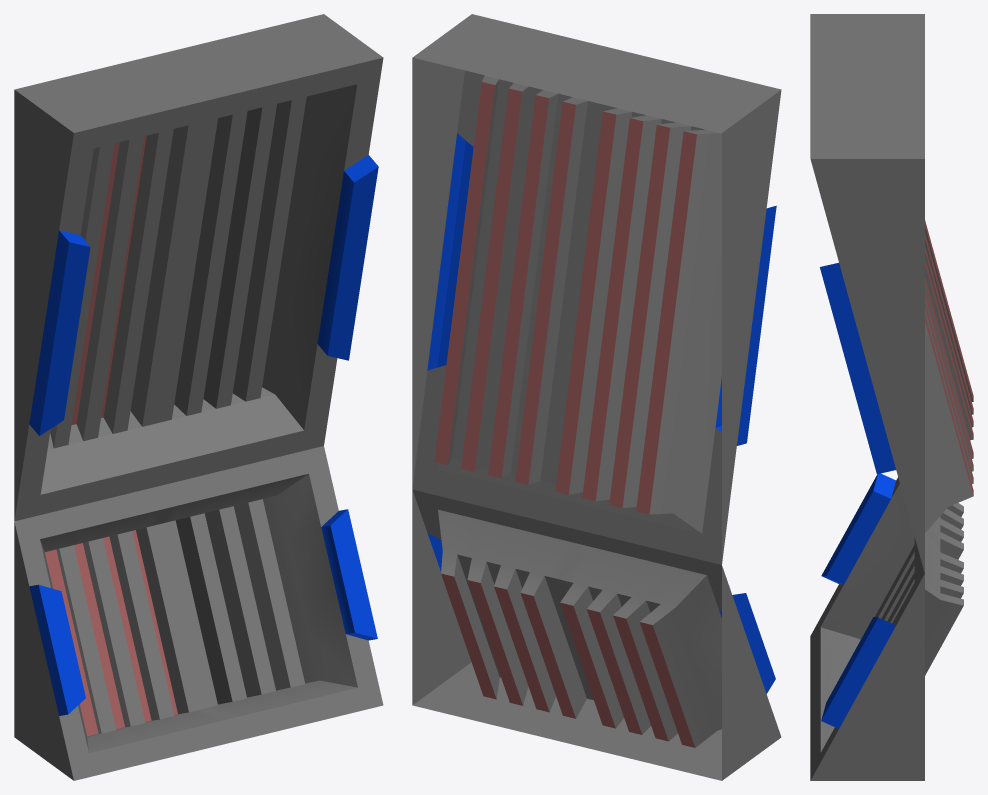
File: Demi_Module_1.fbx
3 renders of one model, left to right at view 1: azimuth 30°, elevation 25°; view 2: azimuth 150°, elevation 25°; view 3: azimuth 270°, elevation 25°, orthographic. The views are drawn at different scales.
Visible parts, largest first — view 1: pCube1; view 2: pCube1; view 3: pCube1.
Part boxes in pixels (left/top/right/bottom): pCube1: left=14, top=14, right=383, bottom=780; pCube1: left=412, top=14, right=781, bottom=780; pCube1: left=810, top=14, right=973, bottom=780.
Bounding box in the file's own units: 150 × 300 × 71.27.
